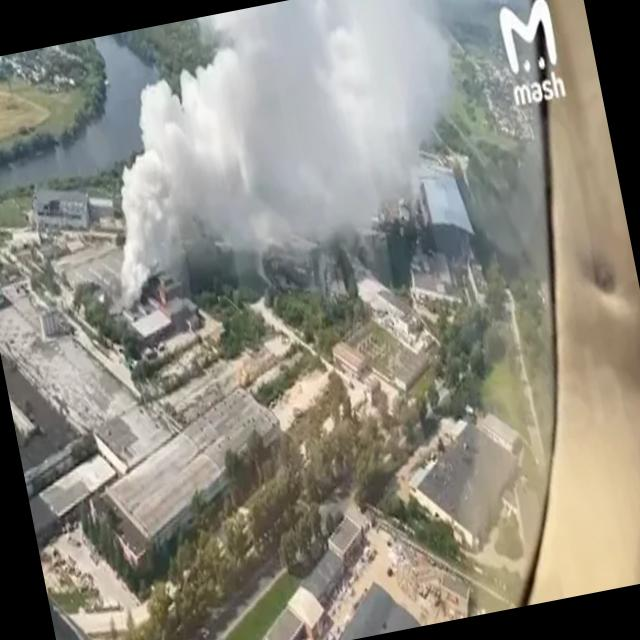Smoke: (75, 0, 498, 310)
